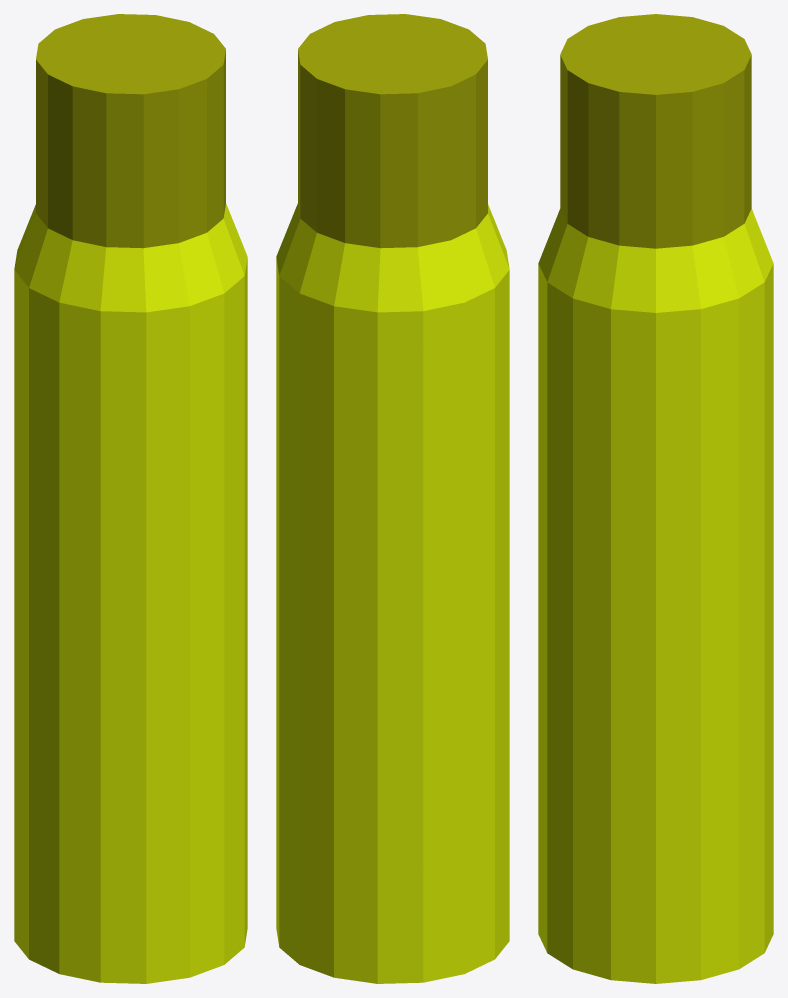
The model's file is TermoColor.fbx.
The picture shows the model from 3 angles, left to right: view 1: azimuth 30°, elevation 25°; view 2: azimuth 150°, elevation 25°; view 3: azimuth 270°, elevation 25°; orthographic projection.
Parts seen in each view (by area): view 1: Cylinder; view 2: Cylinder; view 3: Cylinder.
Boxes of the visible parts, left/top/right/bottom form: Cylinder: left=14, top=14, right=247, bottom=983; Cylinder: left=276, top=14, right=509, bottom=983; Cylinder: left=538, top=14, right=773, bottom=983.
Size of the model in its own units: 200 by 825 by 200.
